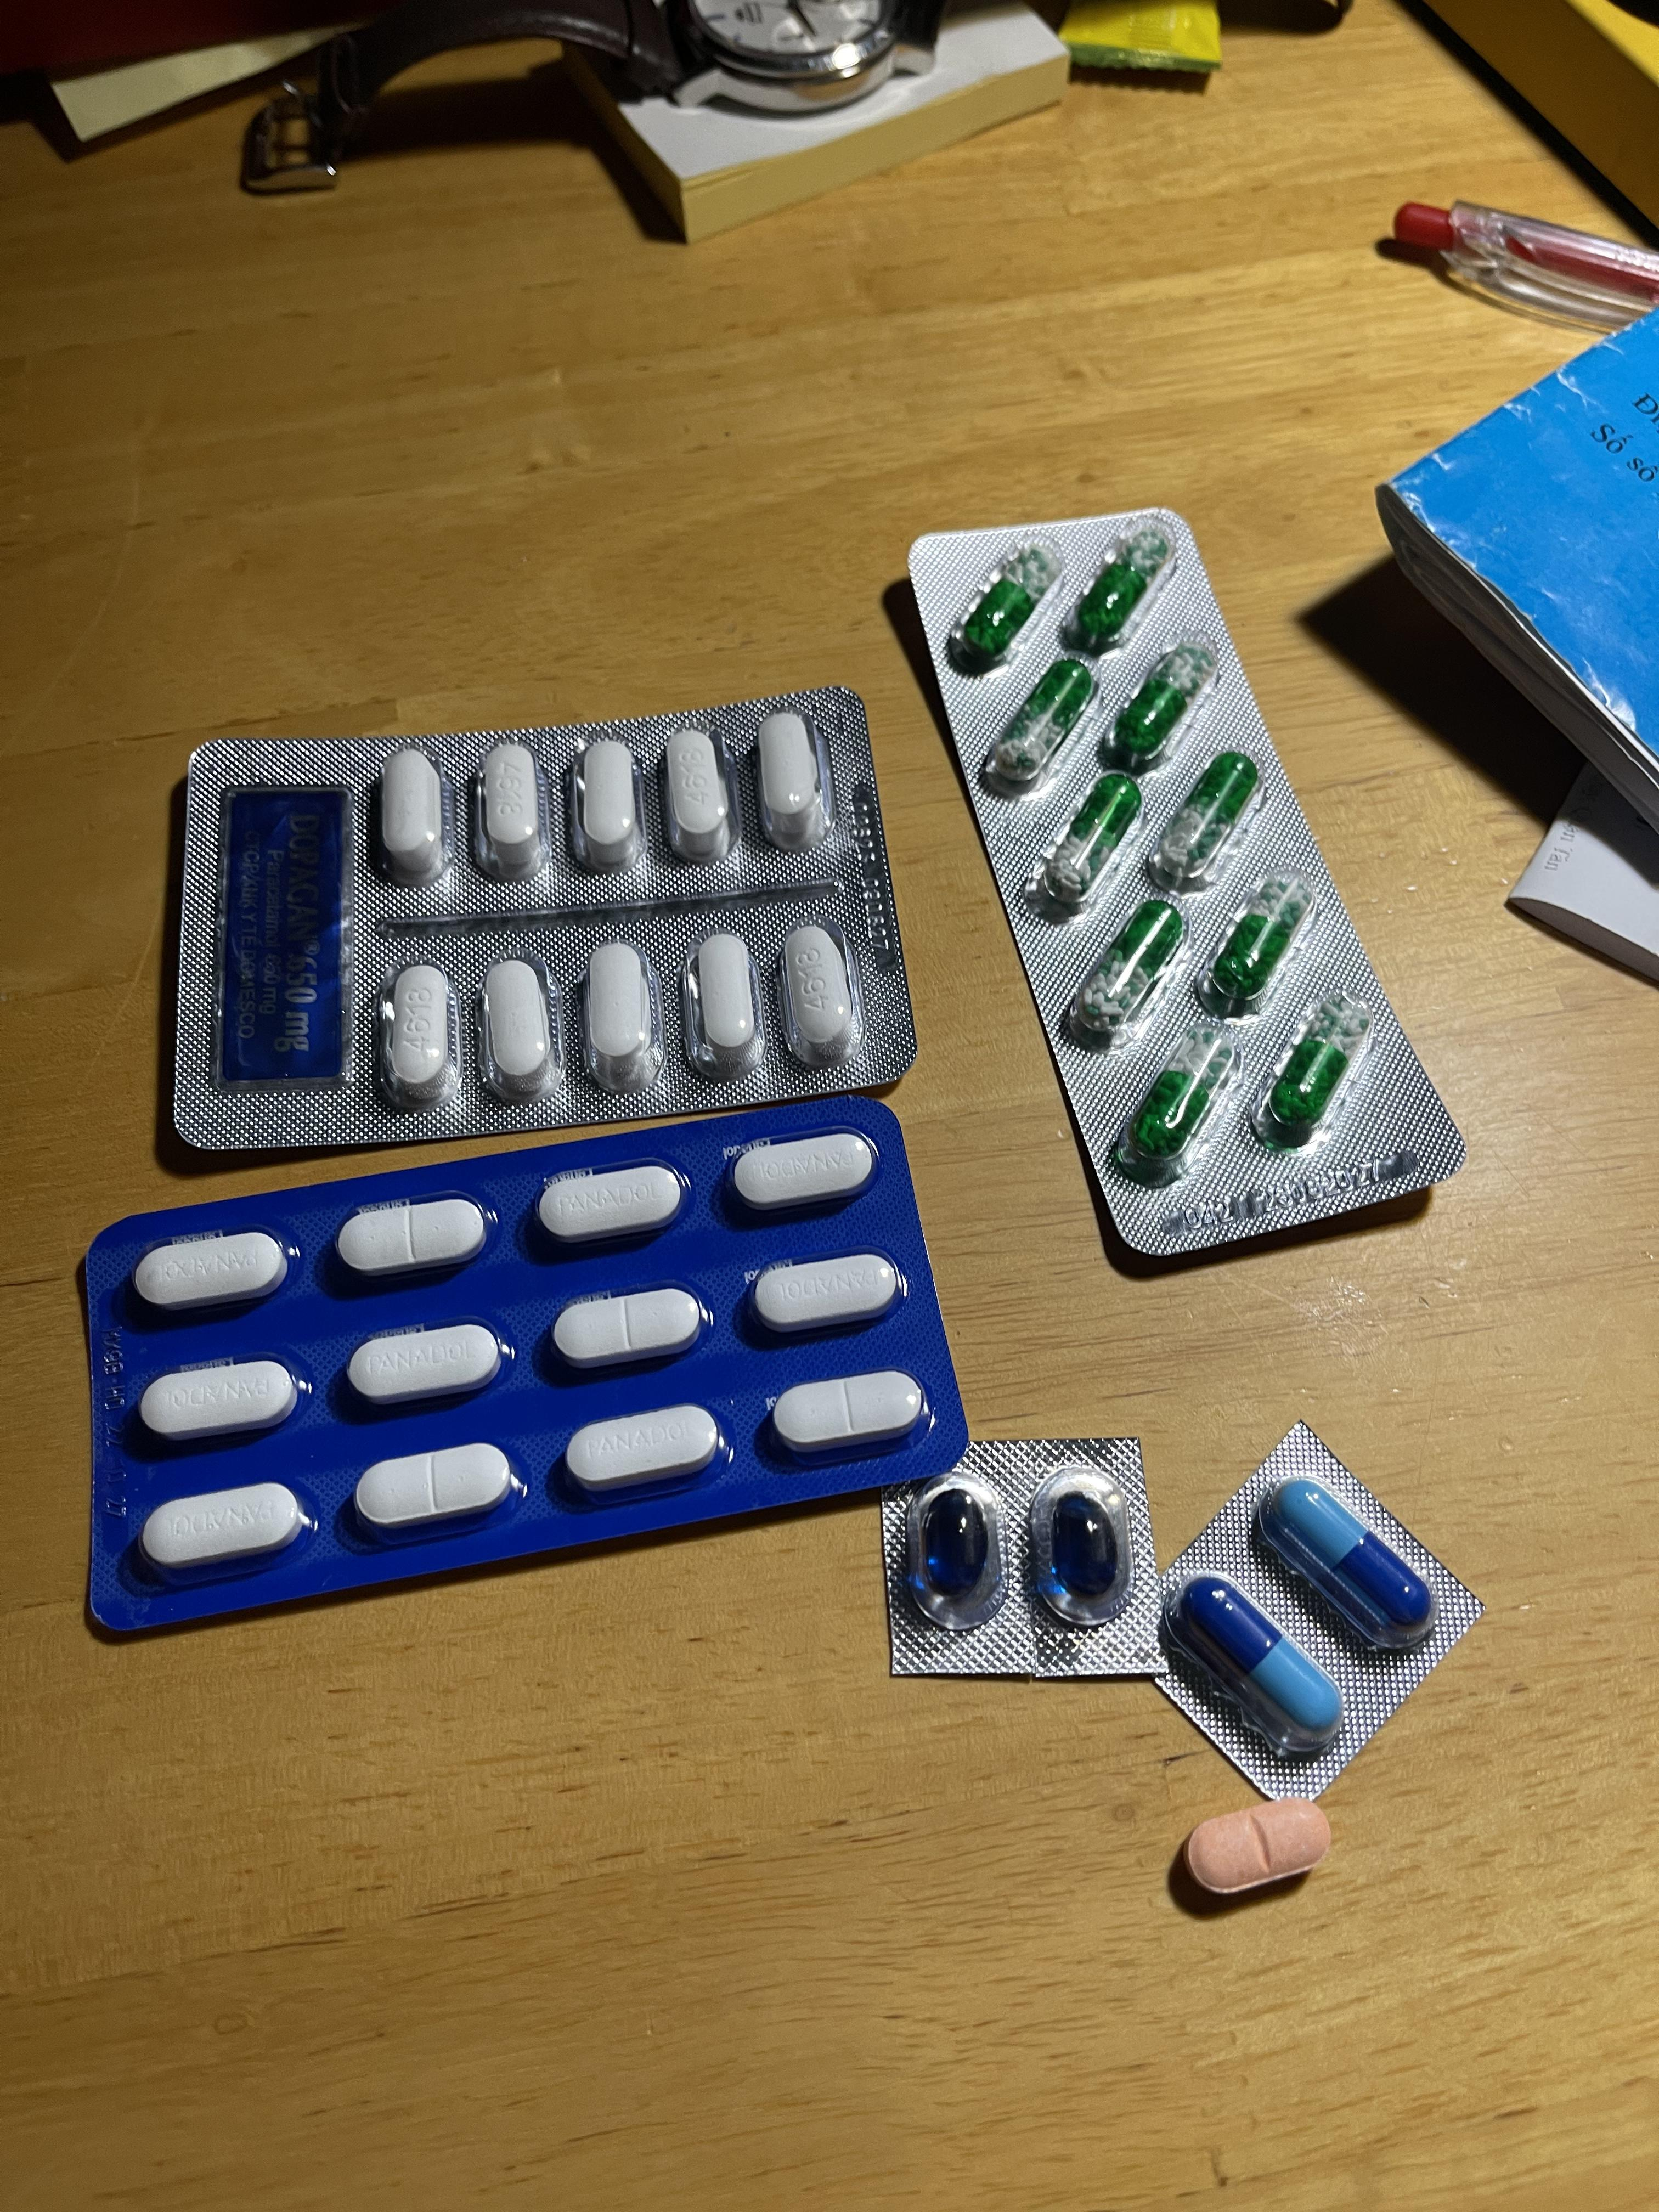Lincomyxin_500mg: (920, 1487, 988, 1597), (1051, 1491, 1121, 1597)
Loratadine_10mg: (1180, 1797, 1330, 1898)
Paracetamol_350mg: (139, 1480, 308, 1575), (565, 1406, 721, 1496), (139, 1355, 300, 1442), (356, 1442, 512, 1531), (134, 1228, 291, 1313), (349, 1320, 504, 1406), (775, 1367, 924, 1456), (336, 1195, 488, 1280), (556, 1285, 708, 1371), (538, 1160, 687, 1244), (749, 1252, 899, 1334), (730, 1127, 877, 1209)
Paracetamol_500mg: (781, 921, 859, 1068), (483, 958, 556, 1099), (587, 942, 653, 1089), (755, 711, 824, 848), (380, 751, 448, 890), (662, 730, 734, 860), (477, 745, 545, 881), (695, 934, 758, 1073), (577, 740, 643, 871), (389, 965, 451, 1092)
Paracetamol_650mg: (1107, 1019, 1236, 1181), (1255, 995, 1377, 1150), (1197, 871, 1314, 1015), (950, 533, 1063, 671), (1105, 637, 1215, 777), (1154, 749, 1262, 885), (1075, 899, 1182, 1035), (1068, 526, 1175, 657), (990, 655, 1094, 782), (1044, 772, 1143, 904)
pill: (1185, 1578, 1340, 1737), (1276, 1480, 1434, 1632)
